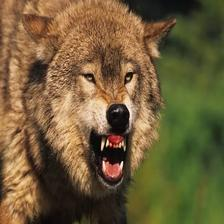WOLF: (0, 2, 178, 224)
